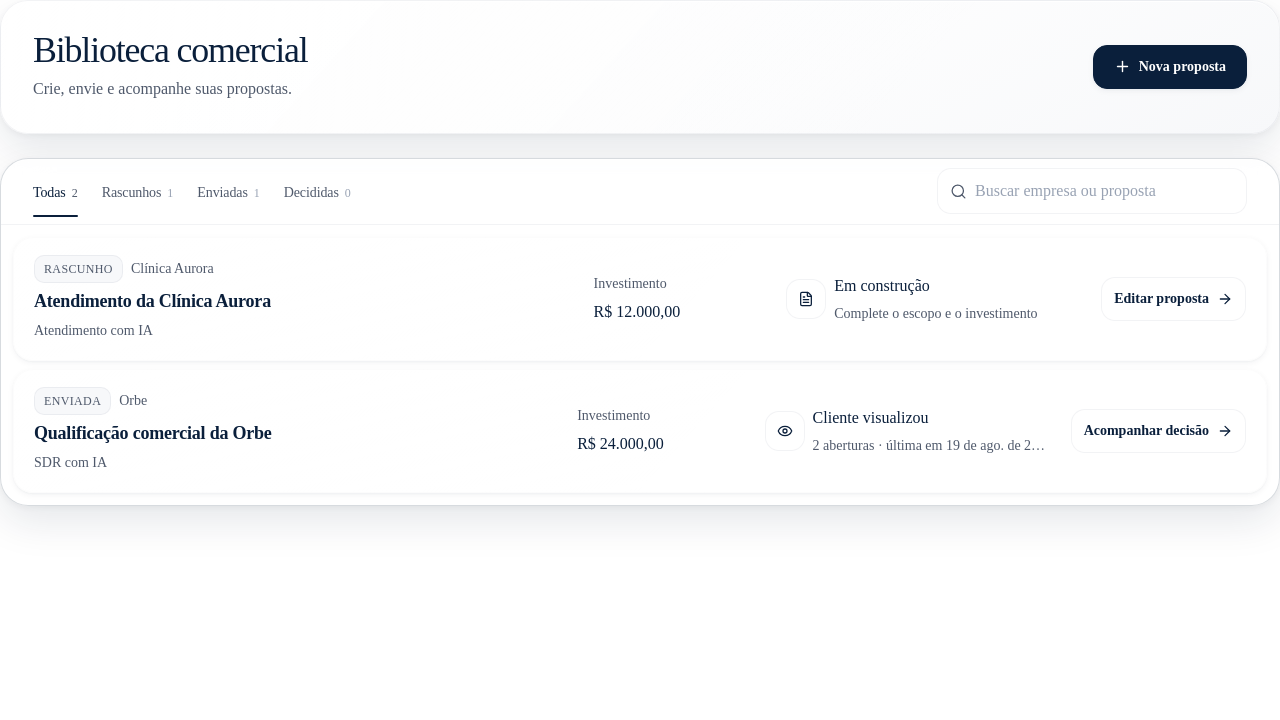
Test case: PainelPropostas › filtra rascunhos e propostas enviadas sem duplicar a biblioteca
Check: the heading "Biblioteca comercial" is shown, box left=33, top=33, right=308, bottom=69
Check: the text "Clínica Aurora" is shown, box left=131, top=257, right=214, bottom=280
Click the tab with aria-label "Rascunhos, 1" at point(138, 195), box left=90, top=173, right=185, bottom=217
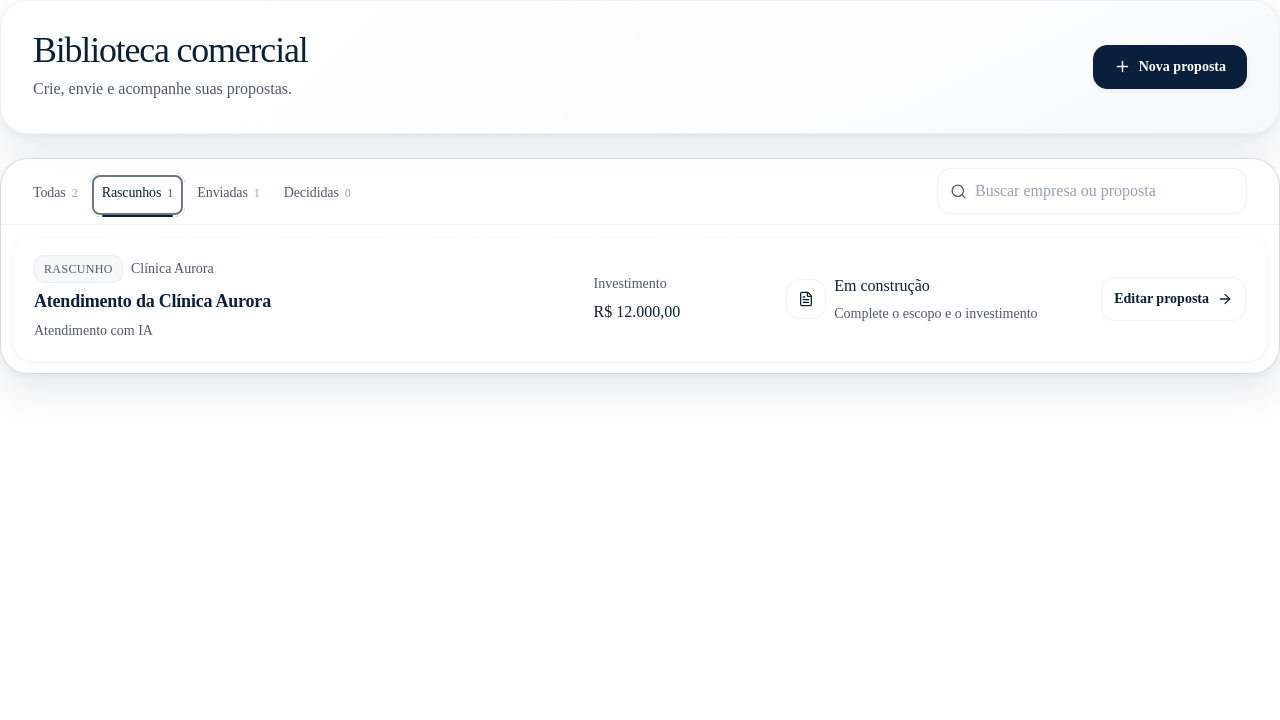
Check: the text "Clínica Aurora" is shown, box left=131, top=257, right=214, bottom=280
Check: the link "Orbe" is gone
Click the tab with aria-label "Enviadas, 1" at point(228, 195), box left=185, top=173, right=272, bottom=217
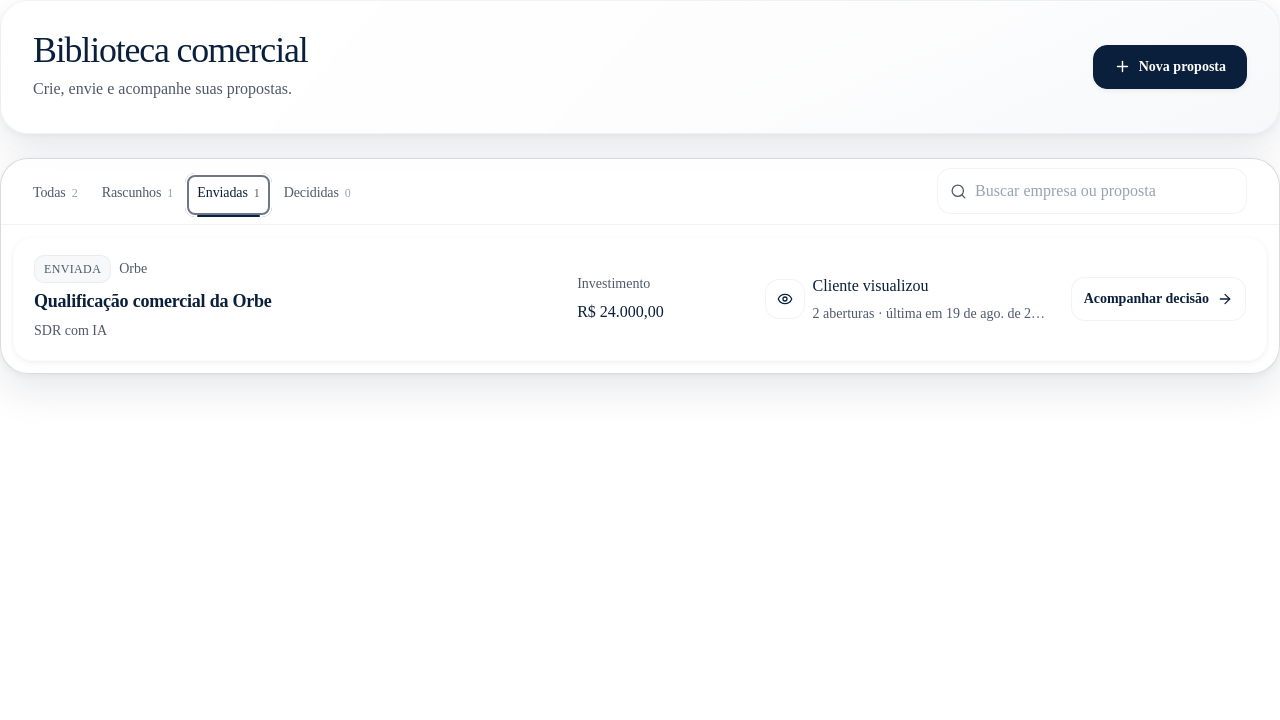
Check: the text "Orbe" is shown, box left=119, top=257, right=147, bottom=280
Check: the text "Enviada" is shown, box left=34, top=255, right=111, bottom=283
Check: the text "Cliente visualizou" is shown, box left=813, top=277, right=929, bottom=294
